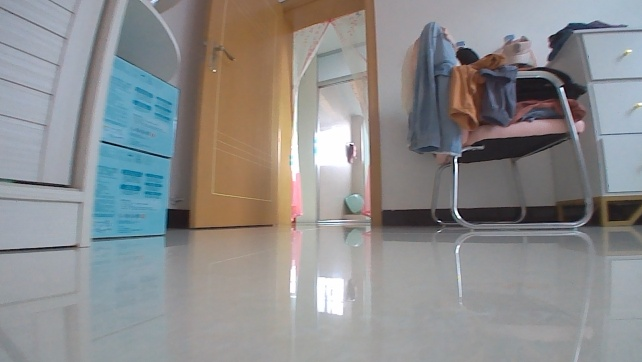cabinet: (545, 23, 641, 230)
door_anno: (184, 0, 295, 230)
metal_chair_foot: (448, 200, 598, 233), (427, 203, 532, 229)
